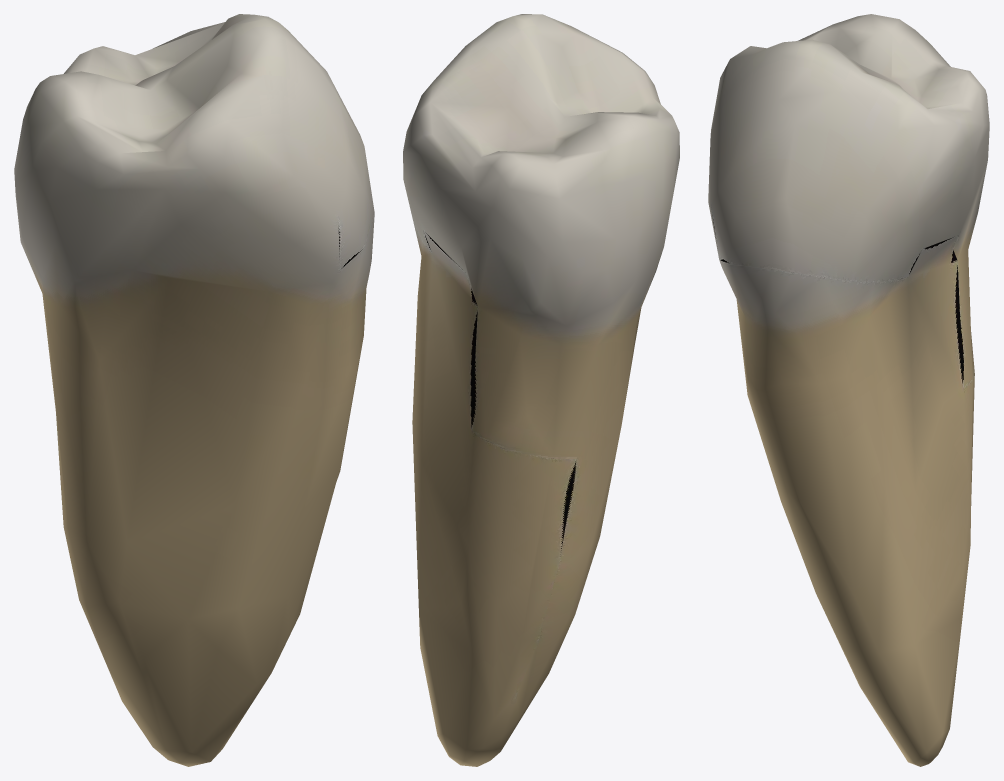
Rendered from mandibular_left_second_premolar.glb.
3 views of the same model, side by side, from view 1: azimuth 30°, elevation 25°; view 2: azimuth 150°, elevation 25°; view 3: azimuth 270°, elevation 25° (orthographic). The views are drawn at different scales.
Visible parts, largest first — view 1: Object_2; view 2: Object_2; view 3: Object_2.
Boxes of the visible parts, x1,y1,x2,y2 form: Object_2: (14,14,374,766); Object_2: (403,14,679,766); Object_2: (708,14,989,766).
Bounding box in the file's own units: 0.7544 × 1.92 × 0.679.
1 material, 1 textured.
